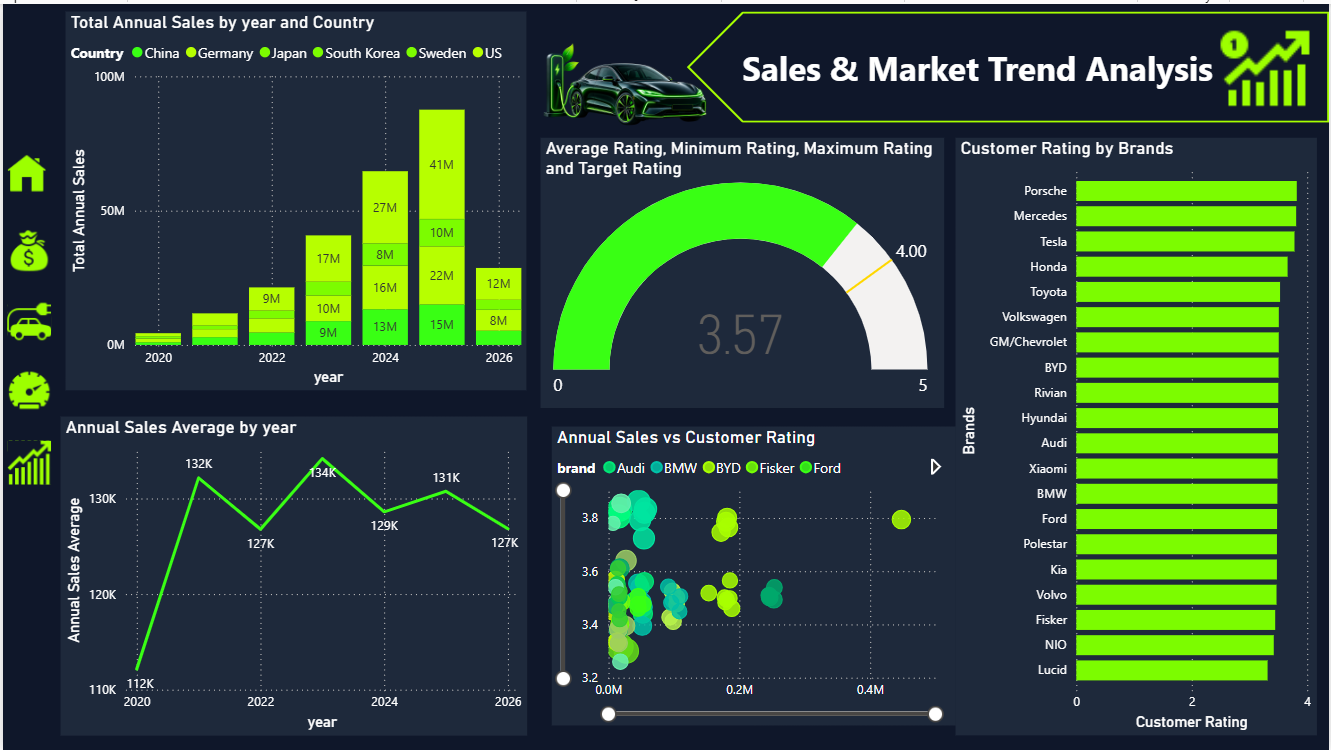

The dashboard page shown, as its layout file describes it:
{"tool":"powerbi","page":{"name":"Sales & Trends","canvas":[1280,720],"ordinal":4},"visuals":[{"type":"lineChart","fields":{"Category":["ev_market_2026.year"],"Y":["Avg(ev_market_2026.annual_sales_units)"]},"box":[55.5,398.1,450,307.6],"z":0},{"type":"barChart","fields":{"Category":["ev_market_2026.brand"],"Y":["Avg(ev_market_2026.customer_rating)"]},"box":[919.3,129.1,348.7,576.7],"z":1000},{"type":"columnChart","fields":{"Category":["ev_market_2026.year"],"Series":["ev_market_2026.country_of_origin"],"Y":["Sum(ev_market_2026.annual_sales_units)"]},"box":[60.3,7.2,445.2,365.6],"z":2000},{"type":"scatterChart","title":"Annual Sales vs Customer Rating","fields":{"Category":["ev_market_2026.model"],"Series":["ev_market_2026.brand"],"Size":["Avg(ev_market_2026.price_usd)"],"X":["Avg(ev_market_2026.annual_sales_units)"],"Y":["Avg(ev_market_2026.customer_rating)"]},"box":[529.6,407.8,389.7,288.3],"z":3000},{"type":"gauge","fields":{"MaxValue":["ev_market_2026.Maximum Rating"],"MinValue":["ev_market_2026.Minimum Rating"],"TargetValue":["ev_market_2026.Target Rating"],"Y":["ev_market_2026.Average Rating"]},"box":[518.8,129.1,389.7,260.6],"z":4000},{"type":"shape","box":[659.9,7.2,620.1,107.4],"z":5000},{"type":"image","box":[1168.2,14,97.8,95],"z":6000},{"type":"actionButton","box":[0,138.7,45.8,50.7],"z":7000},{"type":"actionButton","box":[0,213.5,60.3,50.7],"z":8000},{"type":"actionButton","box":[0,281.1,57.9,50.7],"z":9000},{"type":"actionButton","box":[0,347.5,60.3,50.7],"z":10000},{"type":"actionButton","box":[0,417.4,67.6,50.7],"z":11000},{"type":"image","box":[518.8,7.2,165.3,138.7],"z":12000}]}

Visuals, with their boxes in screenshot pixels (x1, y1, x2, y2), scaled from the page's 1280x720 canvas onto the 1331x750 screenshot:
lineChart - ev_market_2026.year x Avg(ev_market_2026.annual_sales_units): [left=58, top=415, right=526, bottom=735]
barChart - ev_market_2026.brand x Avg(ev_market_2026.customer_rating): [left=956, top=134, right=1319, bottom=735]
columnChart - ev_market_2026.year x ev_market_2026.country_of_origin: [left=63, top=8, right=526, bottom=388]
"Annual Sales vs Customer Rating" scatterChart: [left=551, top=425, right=956, bottom=725]
gauge - ev_market_2026.Maximum Rating x ev_market_2026.Minimum Rating: [left=539, top=134, right=945, bottom=406]
shape: [left=686, top=8, right=1330, bottom=119]
image: [left=1215, top=15, right=1316, bottom=114]
actionButton: [left=0, top=144, right=48, bottom=197]
actionButton: [left=0, top=222, right=63, bottom=275]
actionButton: [left=0, top=293, right=60, bottom=346]
actionButton: [left=0, top=362, right=63, bottom=415]
actionButton: [left=0, top=435, right=70, bottom=488]
image: [left=539, top=8, right=711, bottom=152]
